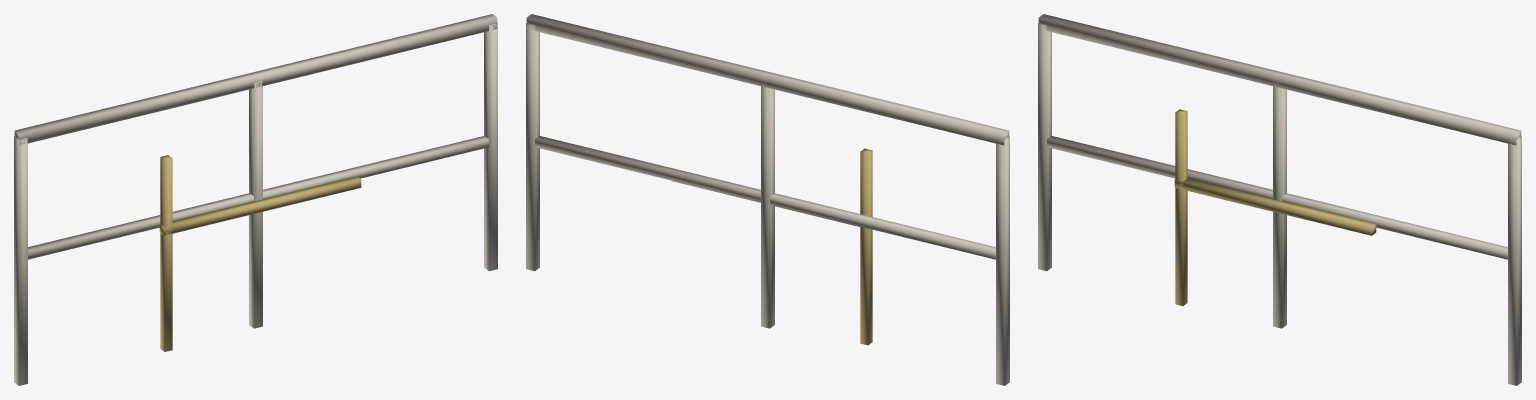
The model's file is civic_gate_l240_h120.glb.
3 views of the same model, side by side, from view 1: azimuth 30°, elevation 25°; view 2: azimuth 150°, elevation 25°; view 3: azimuth 330°, elevation 25° (orthographic).
Parts seen in each view (by area): view 1: world; view 2: world; view 3: world.
Boxes of the visible parts, box(x1,y1,x2,y2) form: world: box(14, 14, 497, 385); world: box(526, 14, 1009, 385); world: box(1038, 14, 1521, 385).
Size of the model in its own units: 2.44 by 1.23 by 0.0825.
